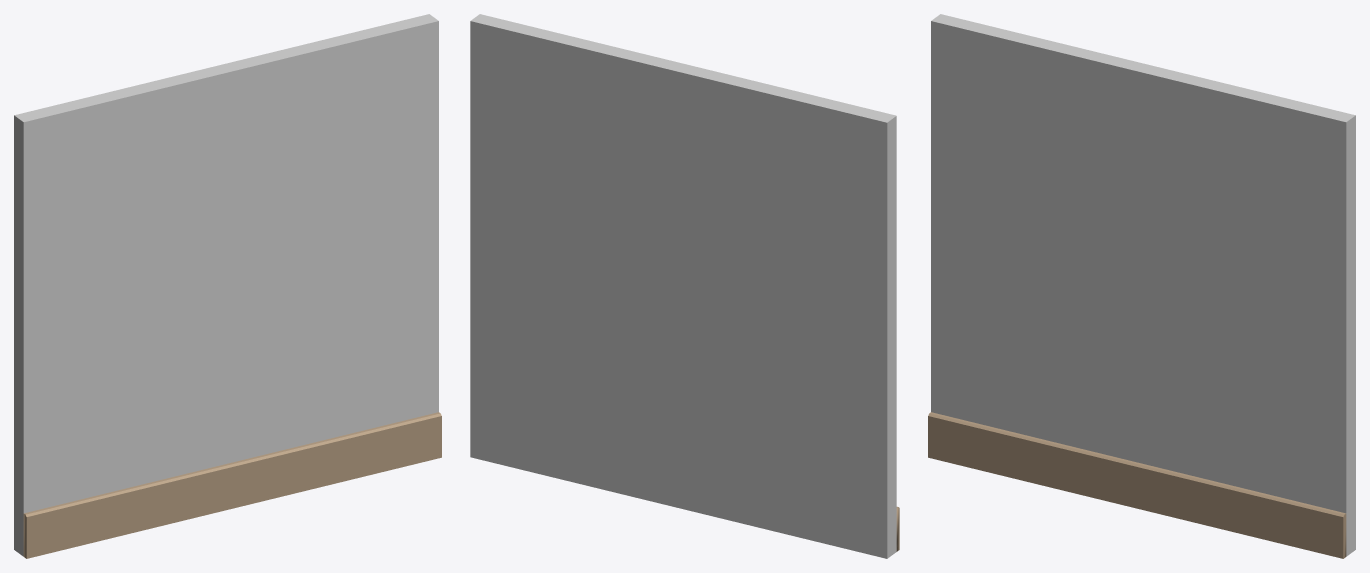
The model's file is House_Wall_Full.fbx.
3 renders of one model, left to right at view 1: azimuth 30°, elevation 25°; view 2: azimuth 150°, elevation 25°; view 3: azimuth 330°, elevation 25°, orthographic.
Visible parts, largest first — view 1: WallFloor2_01__6_.002; view 2: WallFloor2_01__6_.002; view 3: WallFloor2_01__6_.002.
Part boxes in pixels (bbox=[...]): WallFloor2_01__6_.002: bbox=[14, 14, 441, 558]; WallFloor2_01__6_.002: bbox=[470, 14, 899, 558]; WallFloor2_01__6_.002: bbox=[928, 14, 1355, 558].
Bounding box in the file's own units: 250 × 250 × 13.
